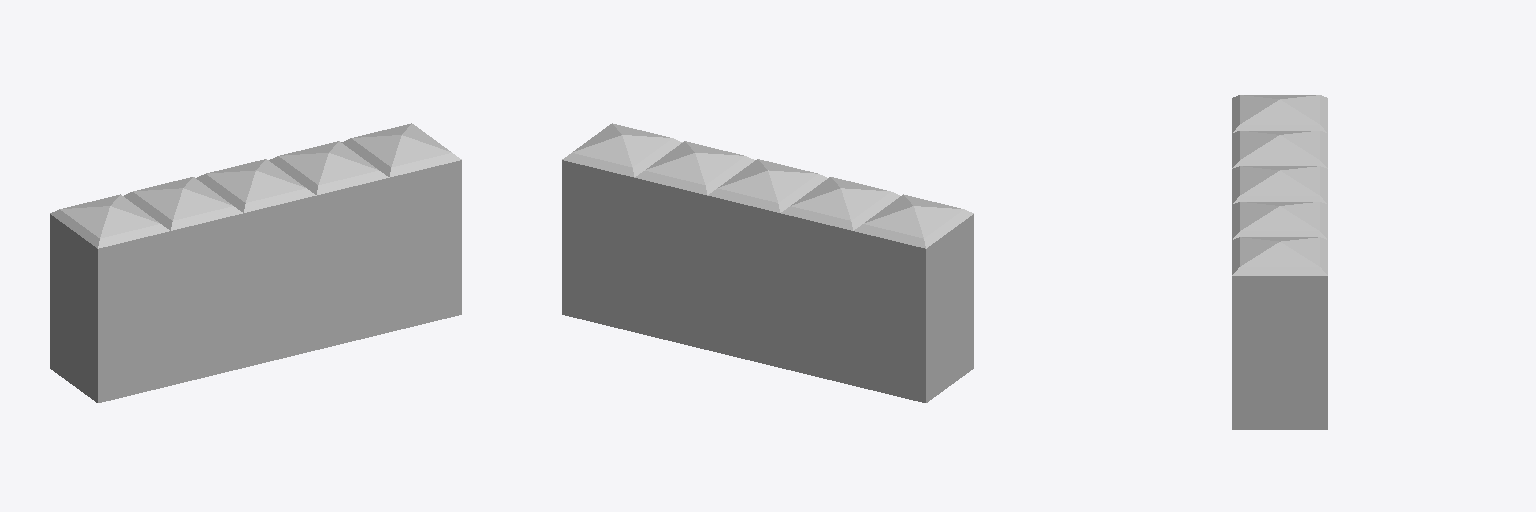
The model's file is Quimical-Five.obj.
The picture shows the model from 3 angles: view 1: azimuth 30°, elevation 25°; view 2: azimuth 150°, elevation 25°; view 3: azimuth 270°, elevation 25°; orthographic projection.
Visible parts, largest first — view 1: Quimical_Cube.011; view 2: Quimical_Cube.011; view 3: Quimical_Cube.011.
Part boxes in pixels (x1,y1,x2,y2): Quimical_Cube.011: (50,123,461,402); Quimical_Cube.011: (562,123,973,402); Quimical_Cube.011: (1232,95,1327,429).
Bounding box in the file's own units: 7 × 3.14 × 1.6.